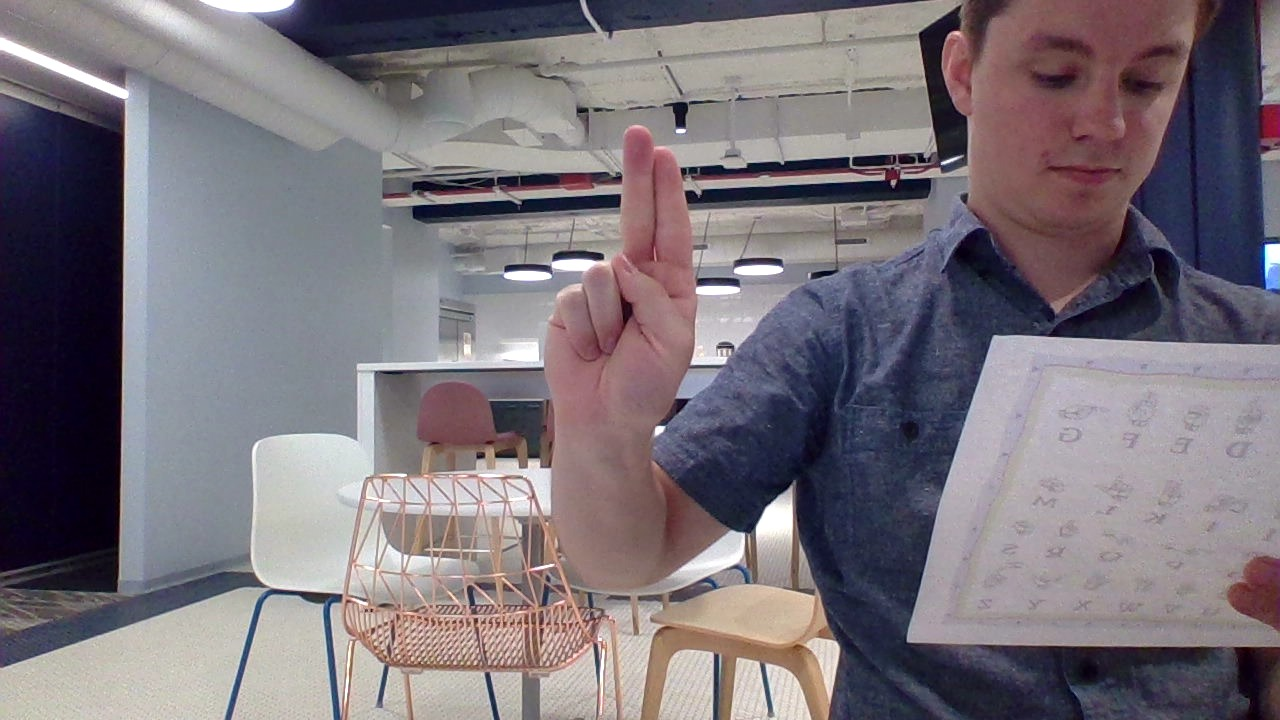u: (528, 107, 720, 471)
